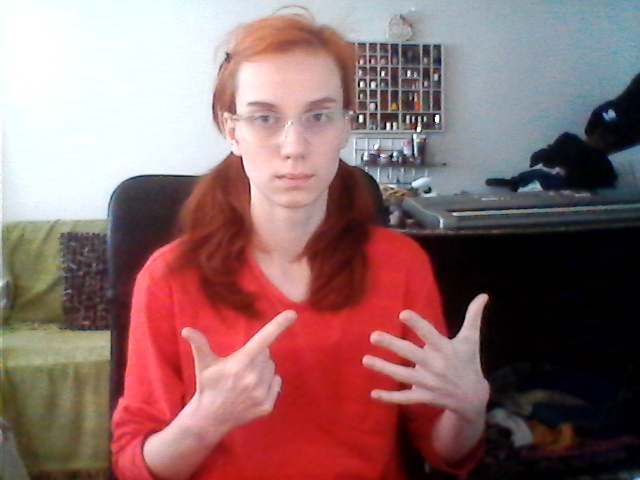sedem: (173, 293, 507, 427)
